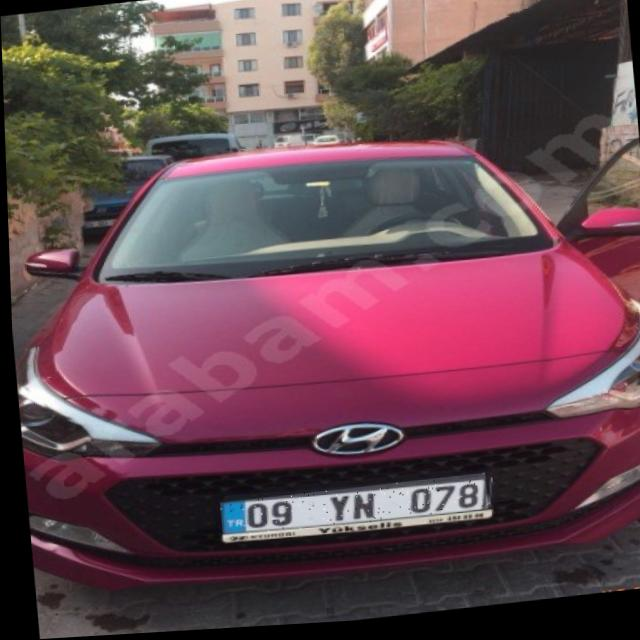license_plate: (216, 479, 488, 541)
